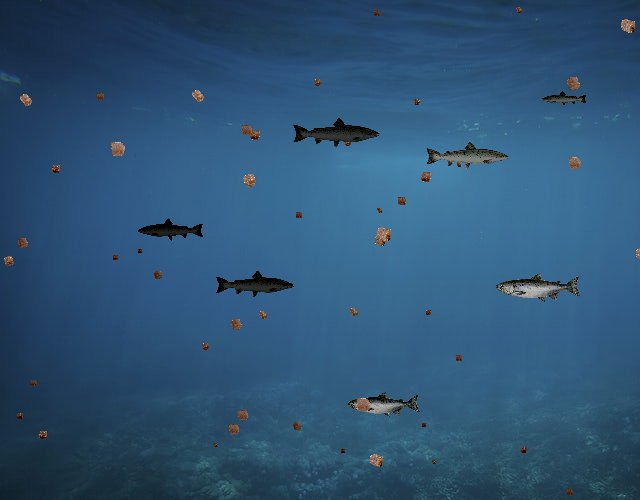Fish: (292, 117, 382, 149), (424, 140, 510, 171), (496, 272, 582, 303), (215, 270, 296, 299), (348, 392, 421, 418), (138, 218, 206, 242), (541, 90, 588, 107)
Pellet: (102, 134, 132, 163), (243, 124, 266, 146), (0, 250, 20, 272), (344, 303, 363, 322), (392, 192, 410, 210), (369, 6, 384, 20), (516, 443, 530, 457), (422, 306, 435, 319), (109, 251, 121, 263), (210, 440, 220, 450)
